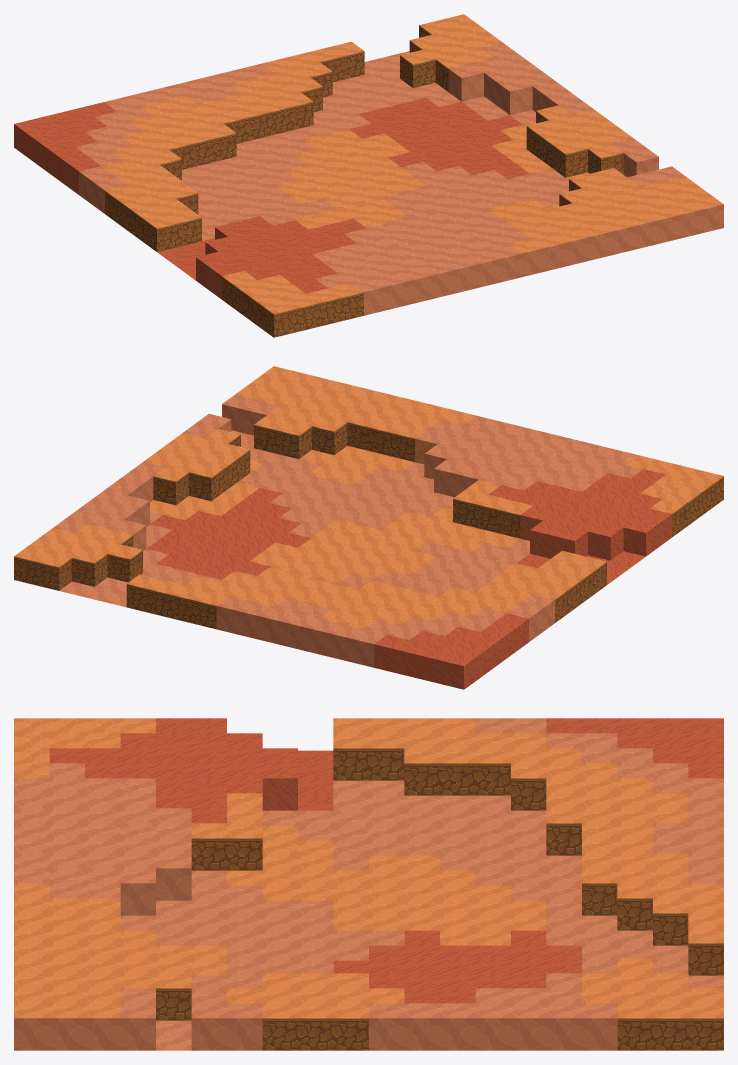
File: mars.fbx
3 views of the same model, one above another, from view 1: azimuth 30°, elevation 25°; view 2: azimuth 150°, elevation 25°; view 3: azimuth 270°, elevation 25° (orthographic). The views are drawn at different scales.
Parts seen in each view (by area): view 1: mars; view 2: mars; view 3: mars.
Boxes of the visible parts, x1,y1,x2,y2 form: mars: (14, 14, 723, 337); mars: (14, 366, 723, 689); mars: (14, 718, 723, 1050).
Size of the model in its own units: 20 by 20 by 1.
4 materials, 4 textured.
